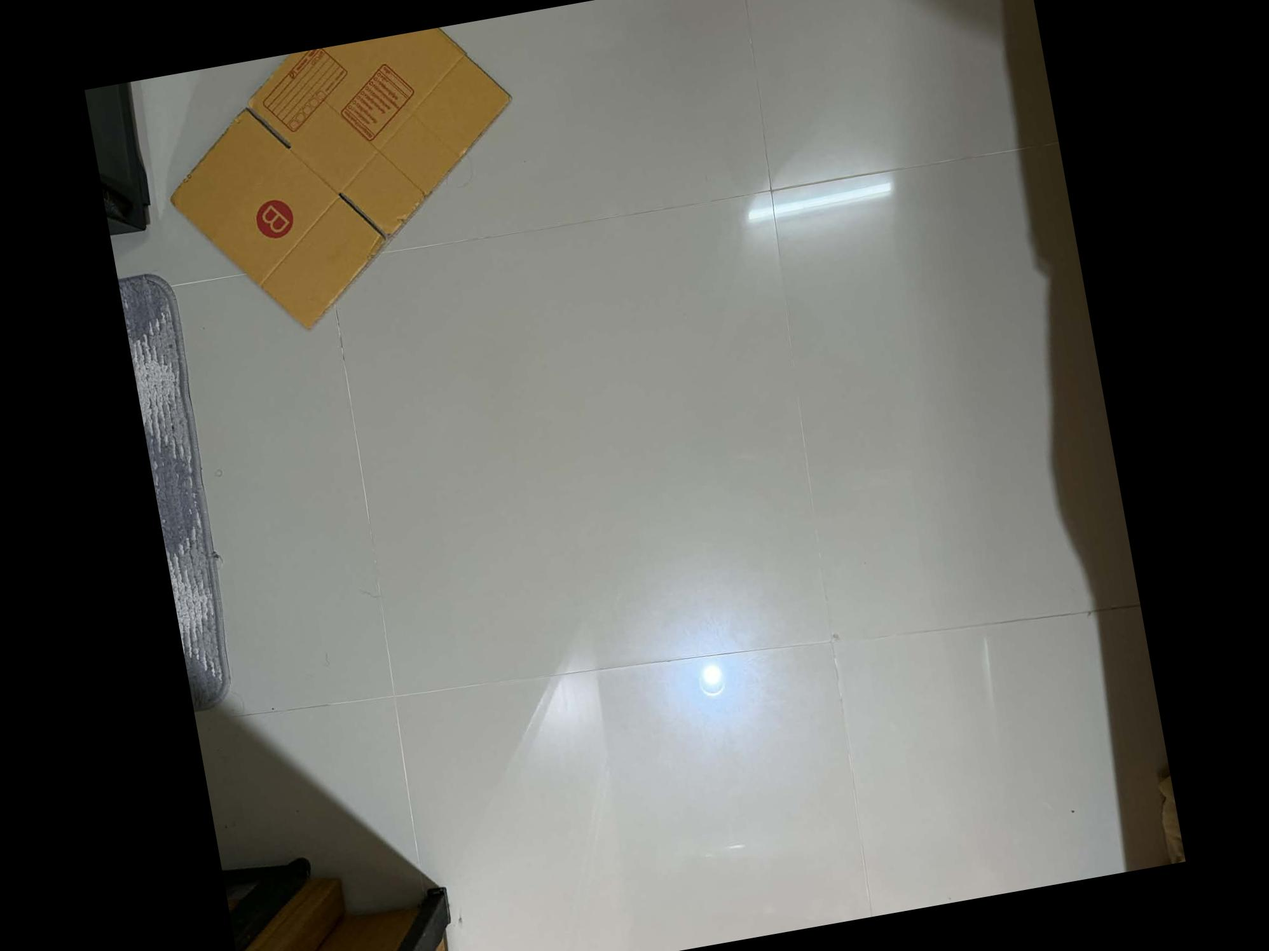box: (251, 46, 347, 134), (332, 58, 424, 146), (250, 196, 302, 242)
class0: (153, 17, 549, 357)
